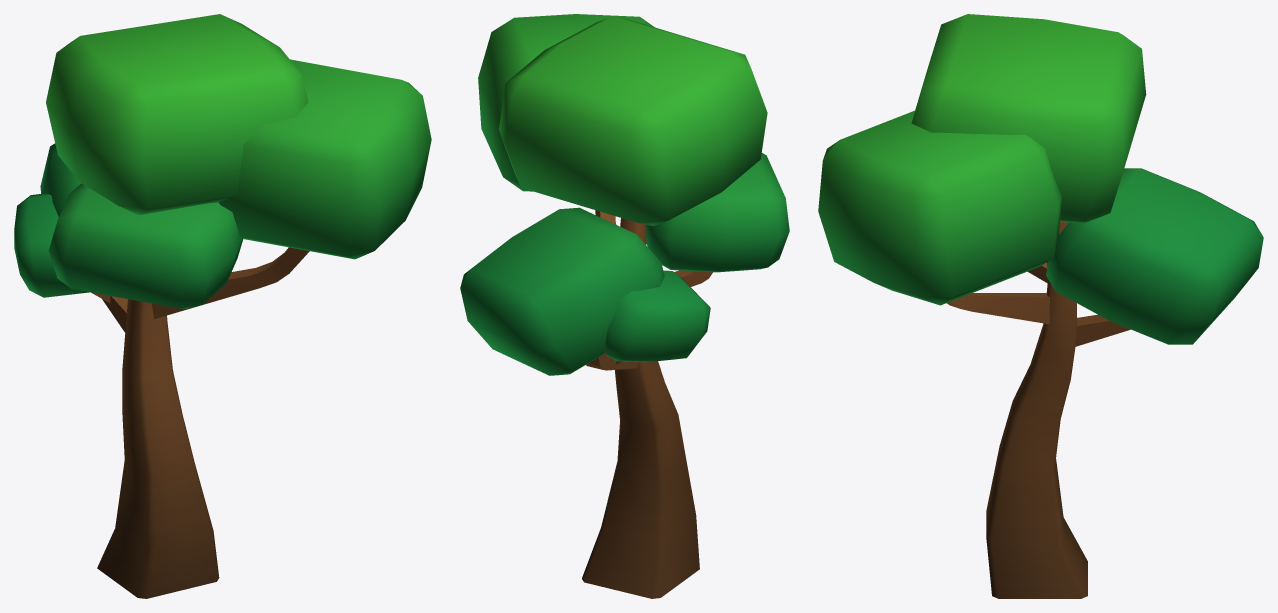
The model's file is Tree_D_7_.glb.
The picture shows the model from 3 angles, left to right: view 1: azimuth 30°, elevation 25°; view 2: azimuth 150°, elevation 25°; view 3: azimuth 270°, elevation 25°; orthographic projection. The views are drawn at different scales.
Visible parts, largest first — view 1: Tree_D_7; view 2: Tree_D_7; view 3: Tree_D_7.
Part boxes in pixels (x1=…): Tree_D_7: x1=14, y1=14, x2=431, y2=598; Tree_D_7: x1=460, y1=14, x2=789, y2=598; Tree_D_7: x1=818, y1=14, x2=1263, y2=598.
Size of the model in its own units: 2.95 by 4.38 by 3.29.
1 material, 1 textured.
